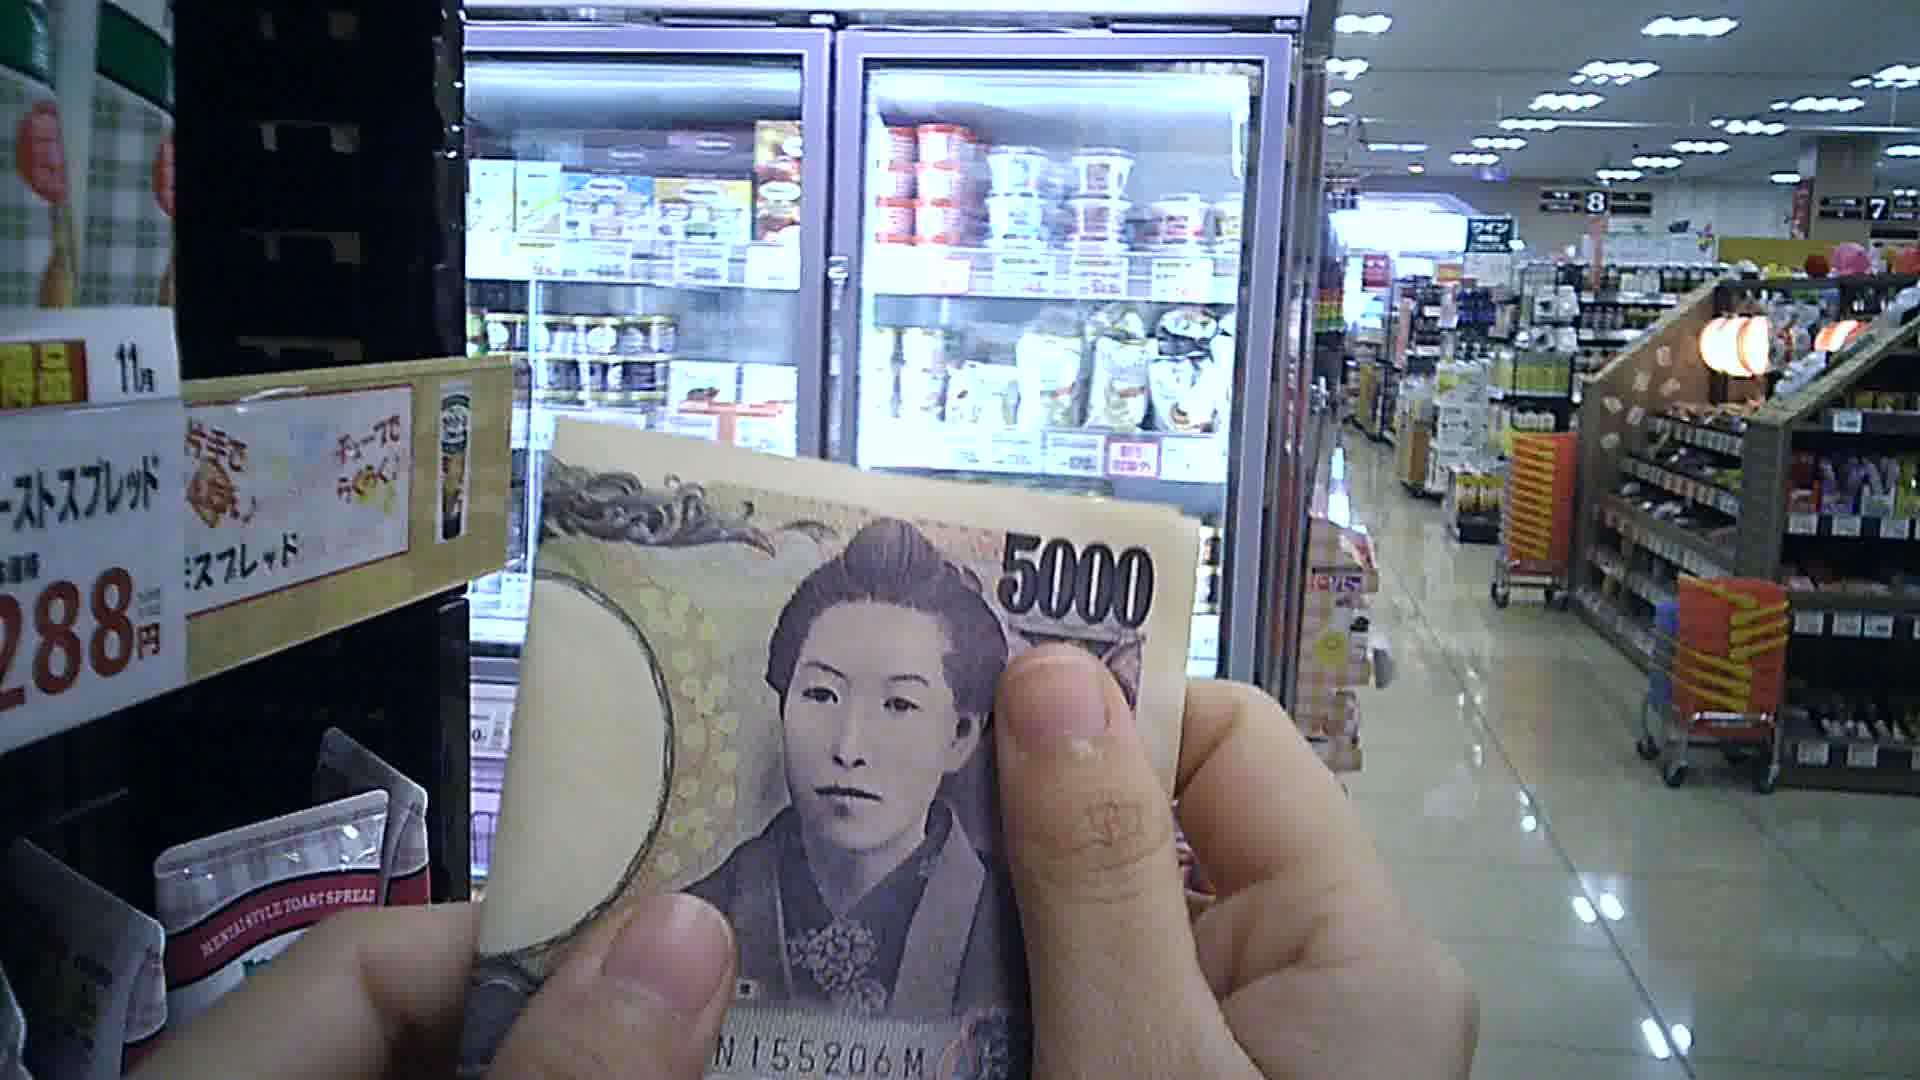5,000 Yen: (471, 398, 1179, 1069)
